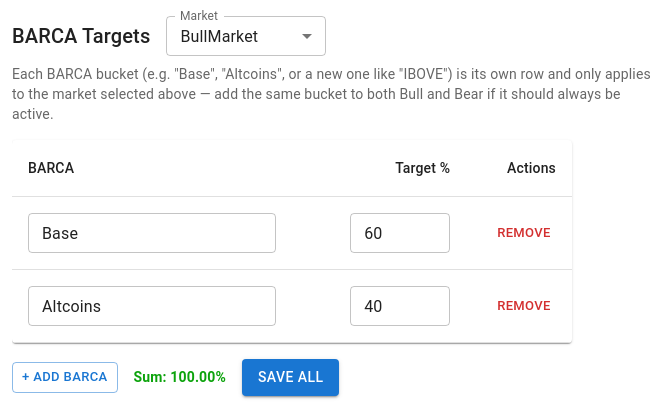
Test: BarcaTargetsTab › removing a row updates the sum
The width and height of the screenshot is (667, 416).
Click the 1st button "Remove". click: [524, 233]
box: [492,218,556,248]
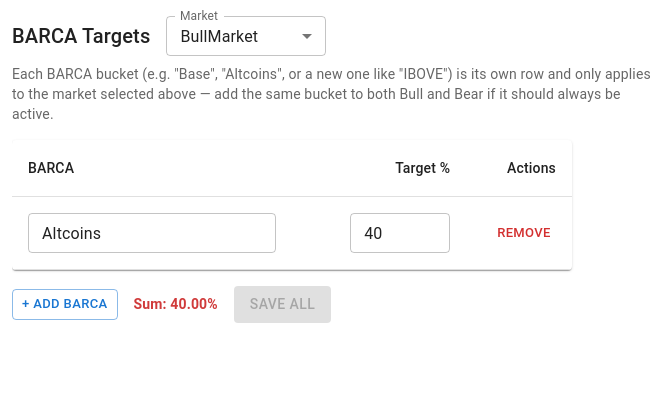
Expected: the text "Sum: 40.00%" is shown, [134,294,218,314]
